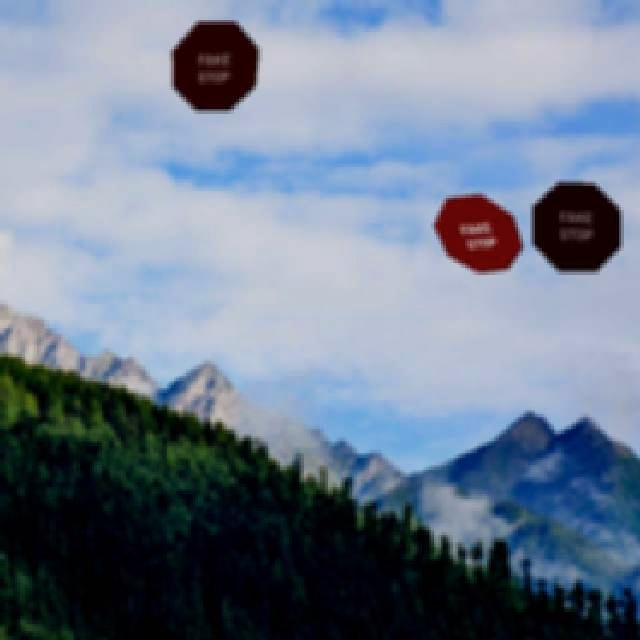FAKE_STOP: (530, 180, 619, 270), (170, 19, 257, 109), (431, 192, 521, 271)
